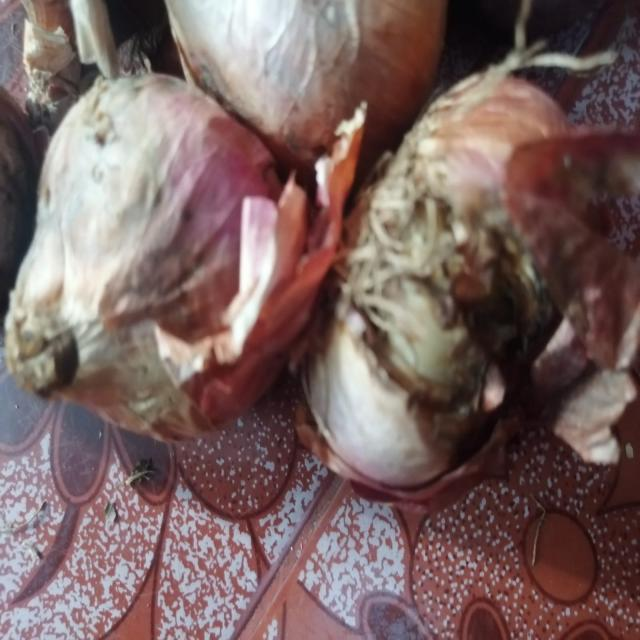rotten: (386, 230, 533, 384)
